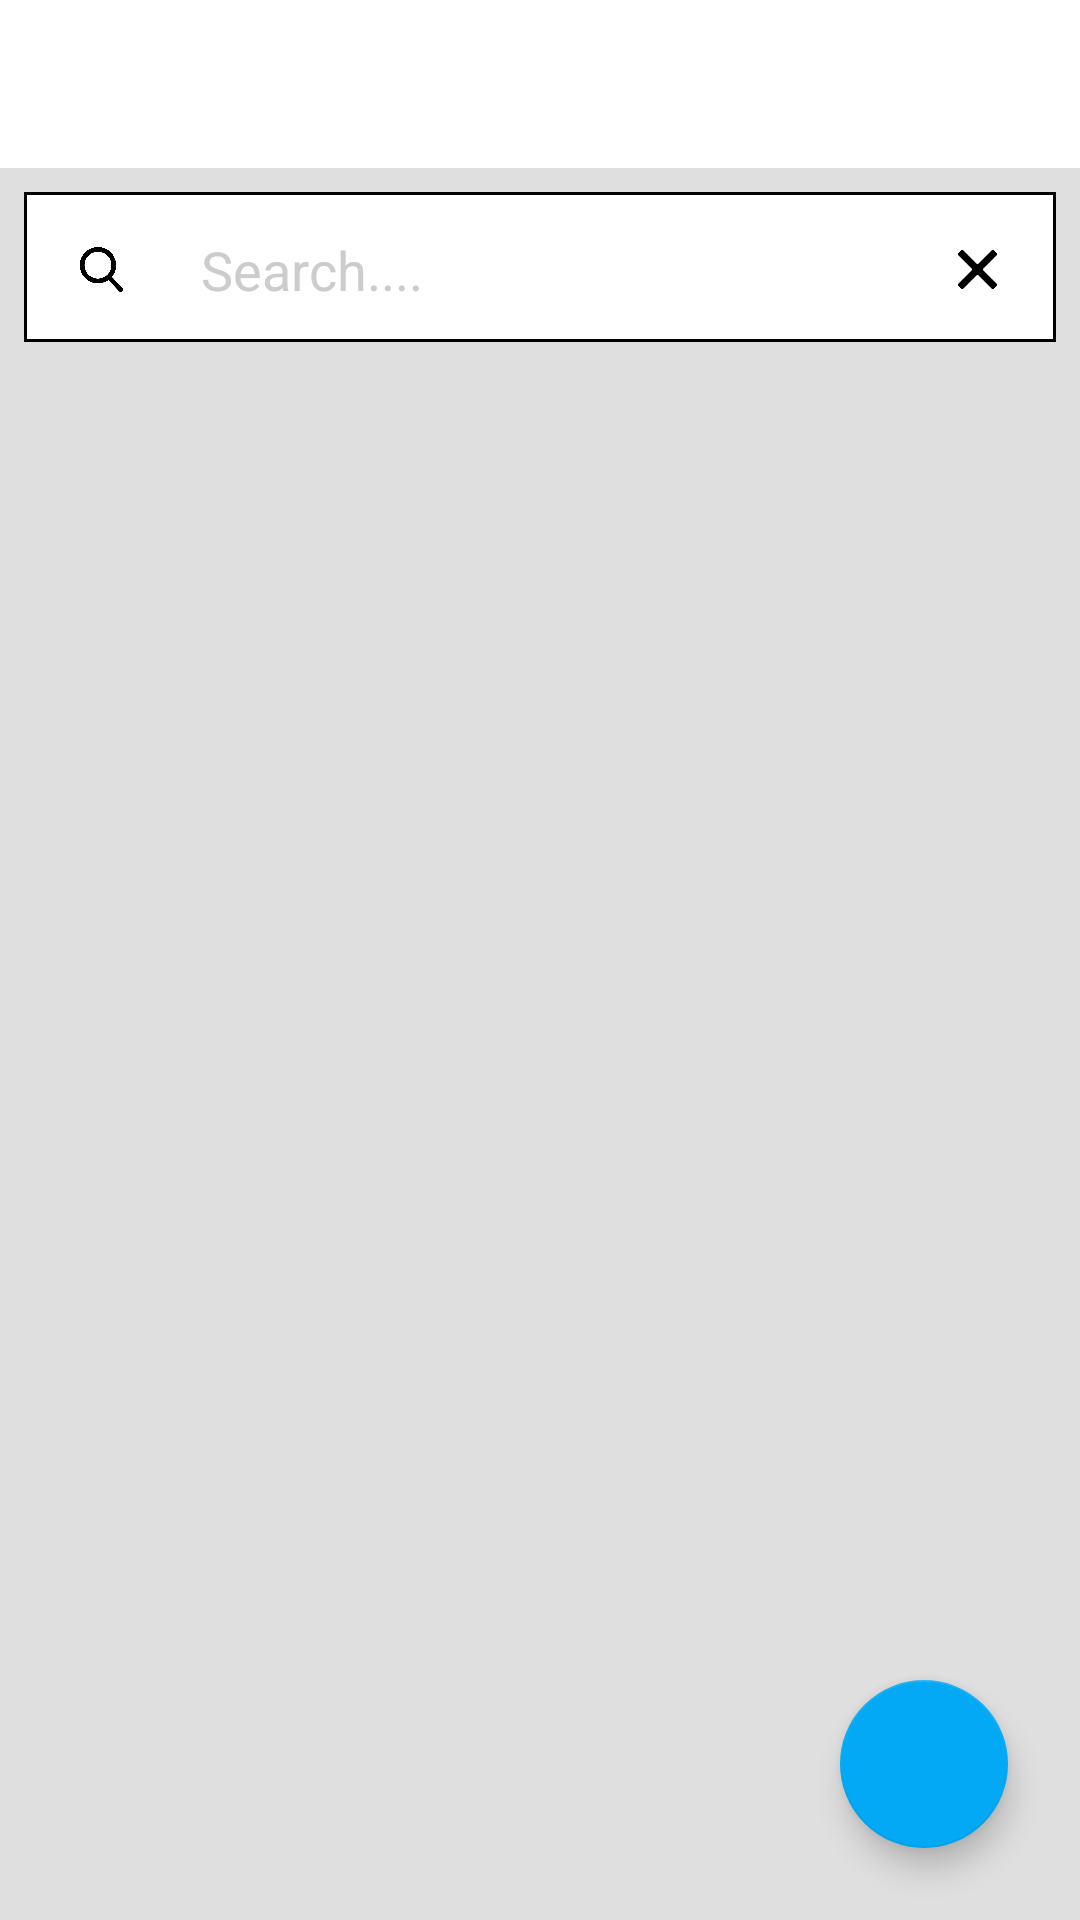

Screen size 1080 × 1920. Icon name, then its center in pixels as [x,y]:
cancel: [977,269]
